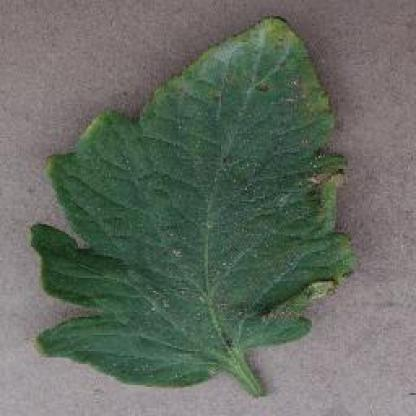good leaf: (46, 69, 348, 369)
